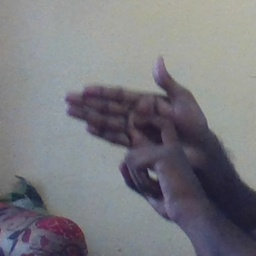R: (62, 55, 213, 206)
